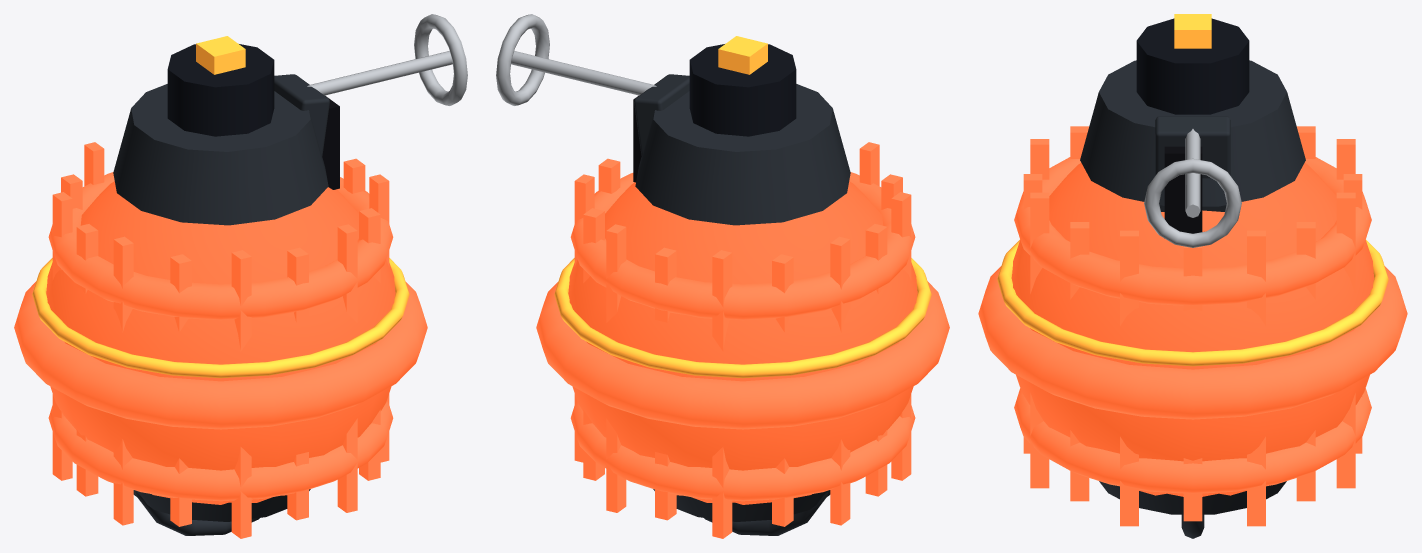
The model's file is grenade.glb.
3 renders of one model, left to right at view 1: azimuth 30°, elevation 25°; view 2: azimuth 150°, elevation 25°; view 3: azimuth 270°, elevation 25°, orthographic. The views are drawn at different scales.
Visible parts, largest first — view 1: grenade_part_1, grenade_part_0, grenade_part_2, grenade_part_4, grenade_part_3, grenade_part_6, grenade_part_5; view 2: grenade_part_1, grenade_part_0, grenade_part_2, grenade_part_4, grenade_part_3, grenade_part_6; view 3: grenade_part_1, grenade_part_0, grenade_part_2, grenade_part_3, grenade_part_4, grenade_part_6, grenade_part_5.
Part boxes in pixels (x1,y1,x2,y2): grenade_part_1: (14,142,427,538); grenade_part_0: (46,181,395,504); grenade_part_2: (113,74,329,535); grenade_part_4: (32,36,409,378); grenade_part_3: (167,44,274,136); grenade_part_6: (307,14,467,105); grenade_part_5: (322,95,339,189); grenade_part_1: (536,142,949,538); grenade_part_0: (568,181,917,504); grenade_part_2: (634,74,850,535); grenade_part_4: (554,36,931,378); grenade_part_3: (689,44,796,136); grenade_part_6: (496,14,656,105); grenade_part_1: (978,126,1407,526); grenade_part_0: (1011,163,1374,496); grenade_part_2: (1080,60,1305,538); grenade_part_3: (1136,18,1249,114); grenade_part_4: (997,14,1388,366); grenade_part_6: (1144,129,1241,247); grenade_part_5: (1164,146,1202,233).
Bounding box in the file's own units: 0.264 × 0.297 × 0.228.
